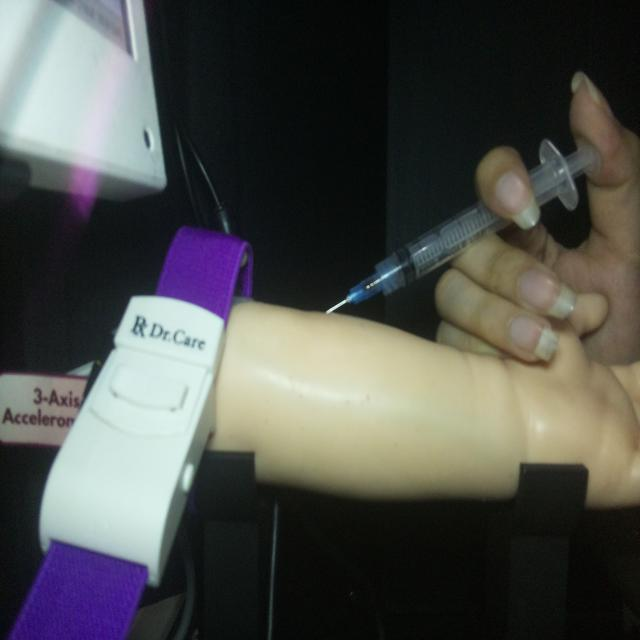21 degrees: (323, 133, 601, 317)
